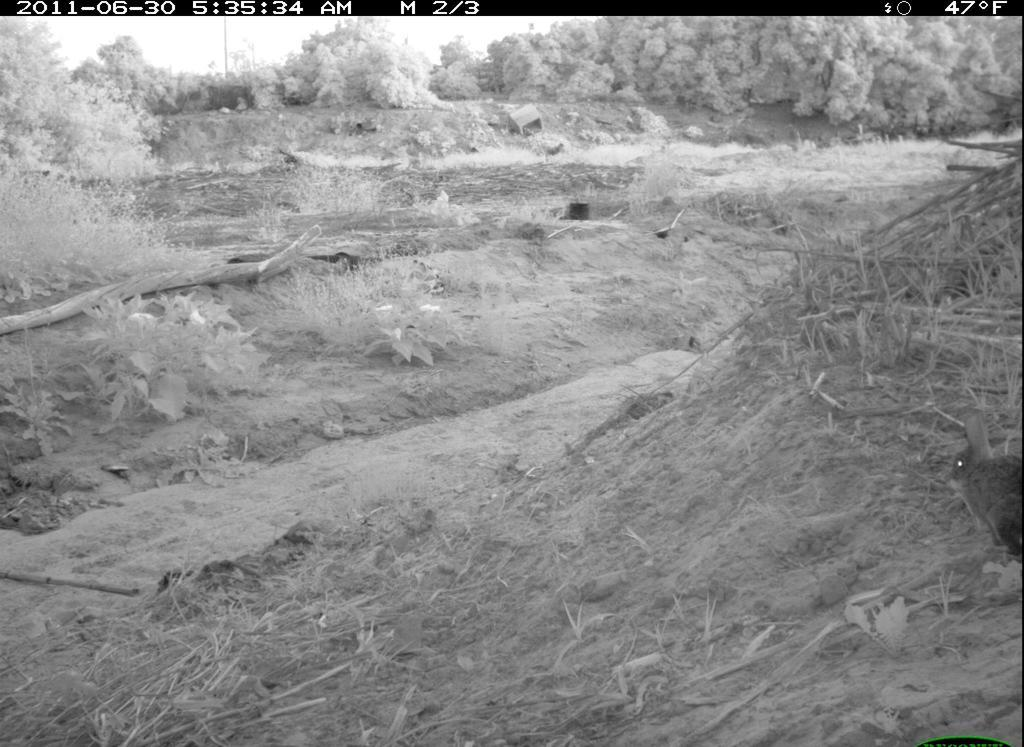rabbit: (941, 404, 1023, 564)
